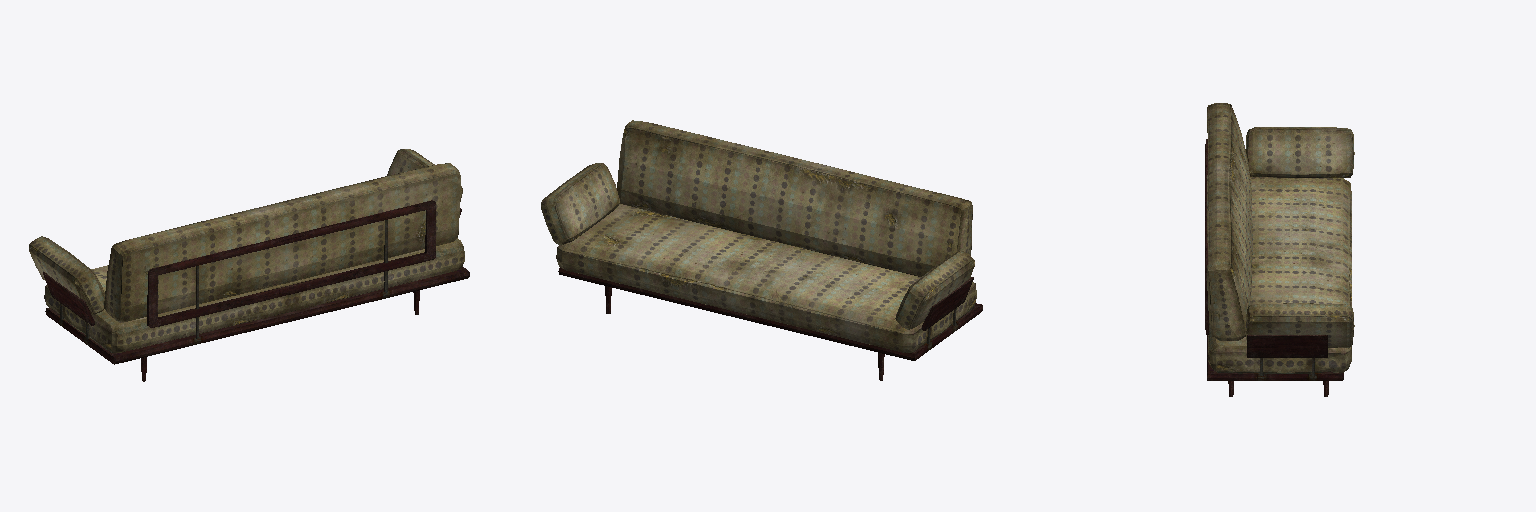
The picture shows the model from 3 angles: view 1: azimuth 30°, elevation 25°; view 2: azimuth 150°, elevation 25°; view 3: azimuth 270°, elevation 25°; orthographic projection.
Visible parts, largest first — view 1: Couch_0; view 2: Couch_0; view 3: Couch_0.
Boxes of the visible parts, x1=… form: Couch_0: x1=29, y1=149, x2=469, y2=381; Couch_0: x1=541, y1=120, x2=982, y2=380; Couch_0: x1=1205, y1=103, x2=1354, y2=396.
Size of the model in its own units: 174 by 63.06 by 57.72.
Materials: 1 (1 with a texture image).